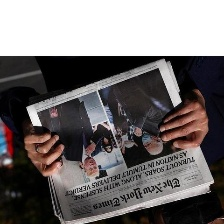news_paper: (26, 55, 216, 224)
